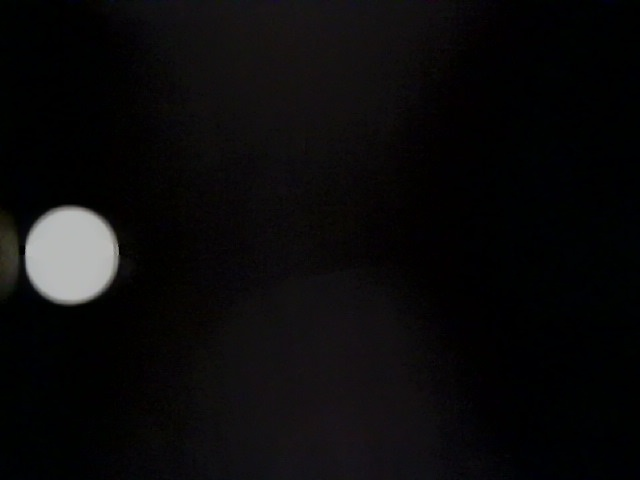QTLJ: (40, 316, 227, 480)
